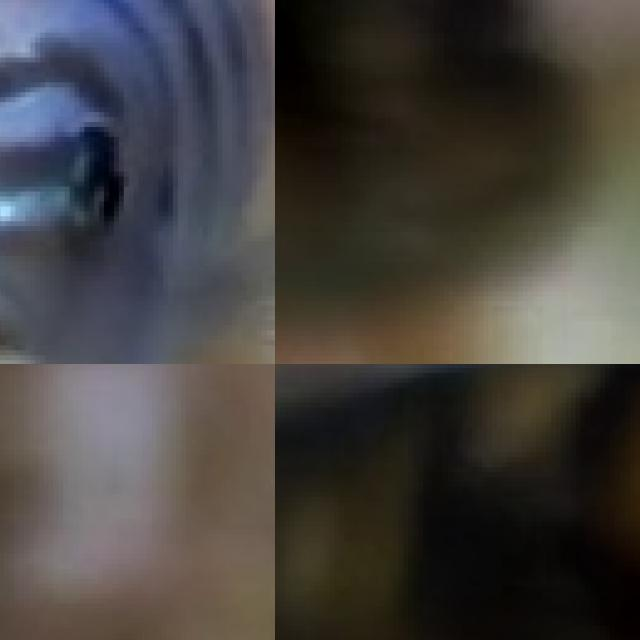fish: (275, 0, 631, 361), (0, 0, 275, 364)
